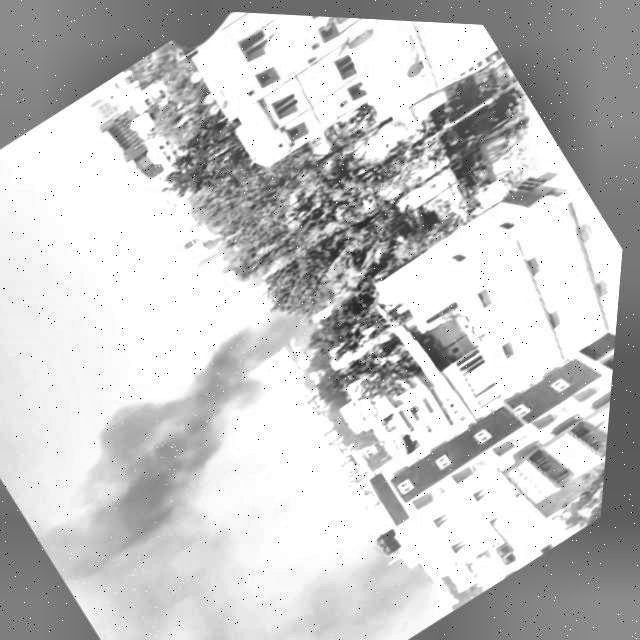Smoke: (0, 273, 503, 640)
